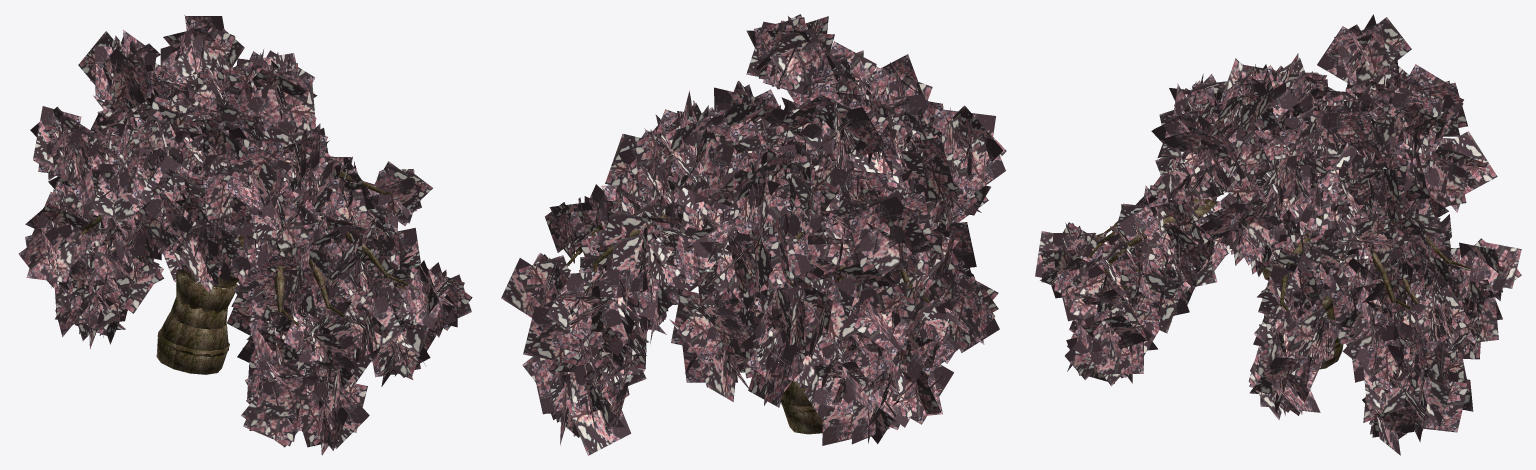
File: blossom_3.glb
3 views of the same model, side by side, from view 1: azimuth 30°, elevation 25°; view 2: azimuth 150°, elevation 25°; view 3: azimuth 270°, elevation 25° (orthographic). The views are drawn at different scales.
Parts seen in each view (by area): view 1: blossom; view 2: blossom; view 3: blossom.
Boxes of the visible parts, bbox=[...] form: blossom: bbox=[18, 15, 472, 455]; blossom: bbox=[501, 14, 1006, 455]; blossom: bbox=[1035, 14, 1521, 455].
Bounding box in the file's own units: 21.99 × 17.12 × 23.04.
Materials: 2 (2 with a texture image).
